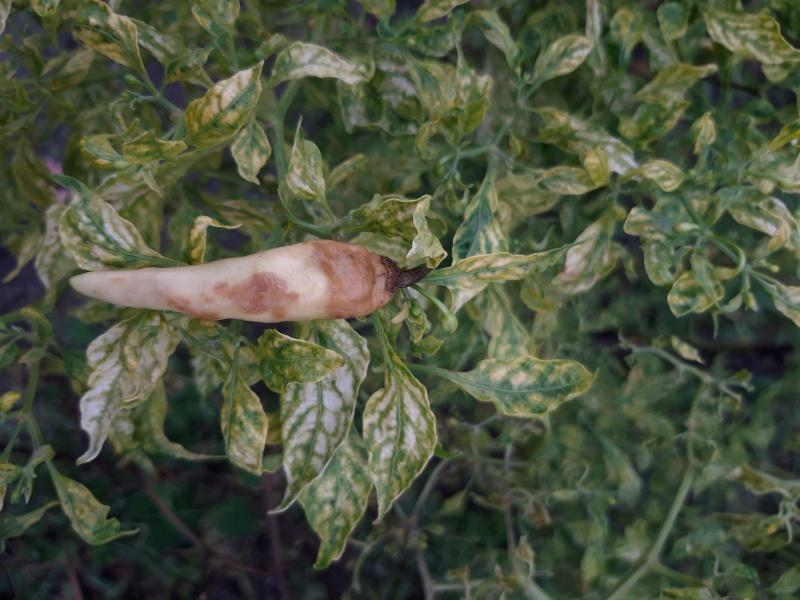antraknosa: (71, 239, 400, 320)
